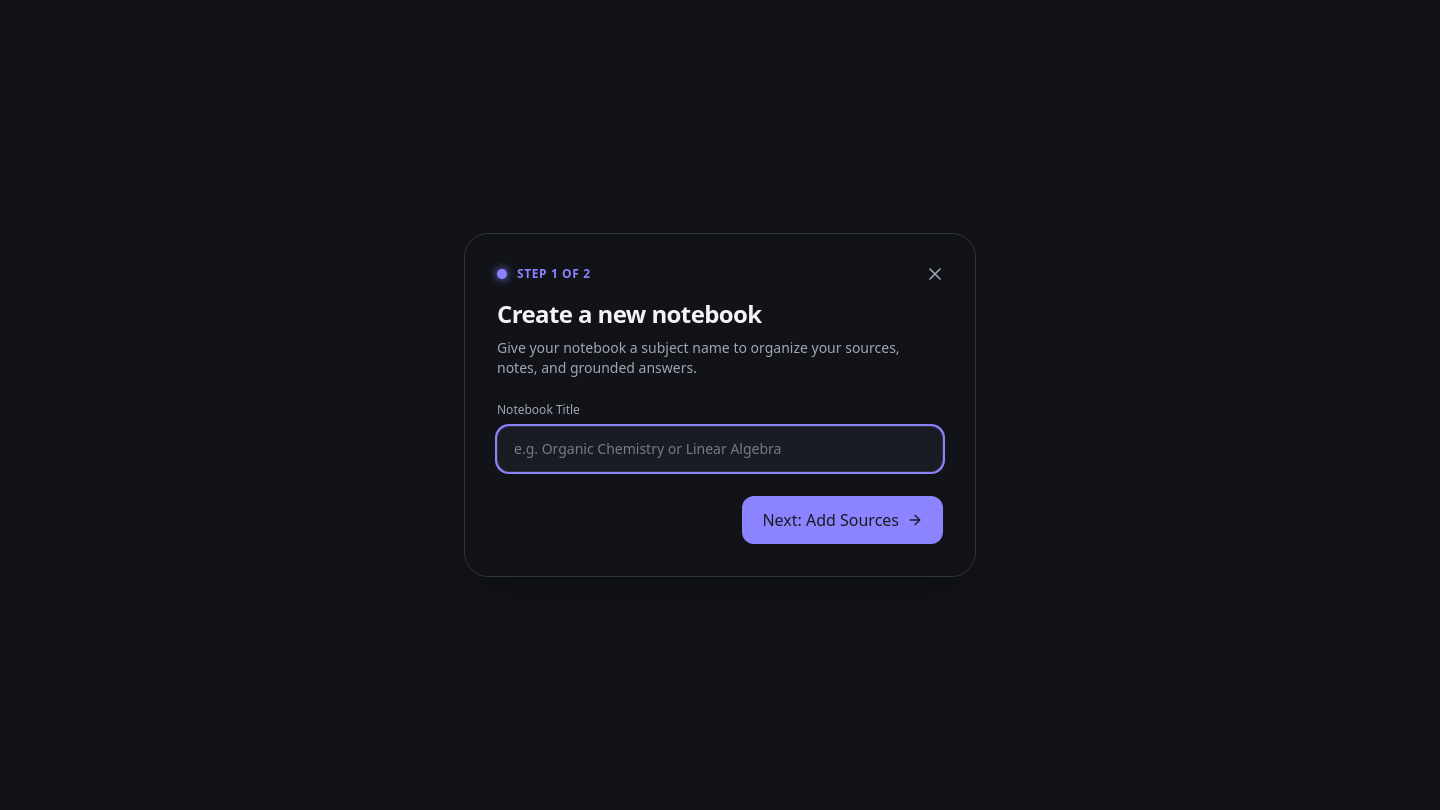
it: Phase 3: Material 3 Auth Modal & Guided Onboarding Flow › test_modal_edge_cases_and_error_handling
Earlier steps of the test are not shown.
Type "Faulty Notebook" into the field with test id "onboarding-notebook-title-input" at [720, 449], box [497,426,943,472]
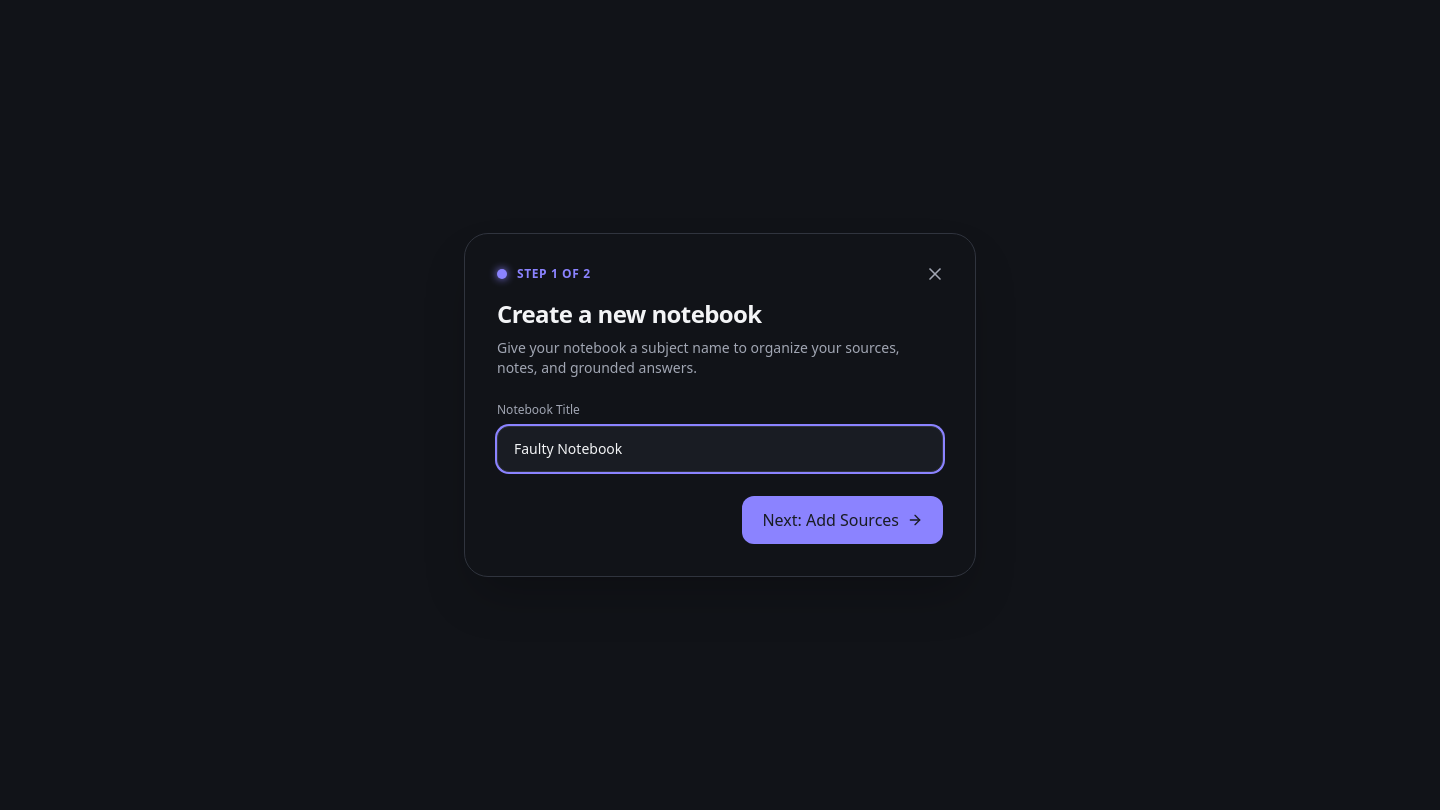
Click the button with test id "onboarding-notebook-submit-btn" at [843, 520], box [742,496,943,544]
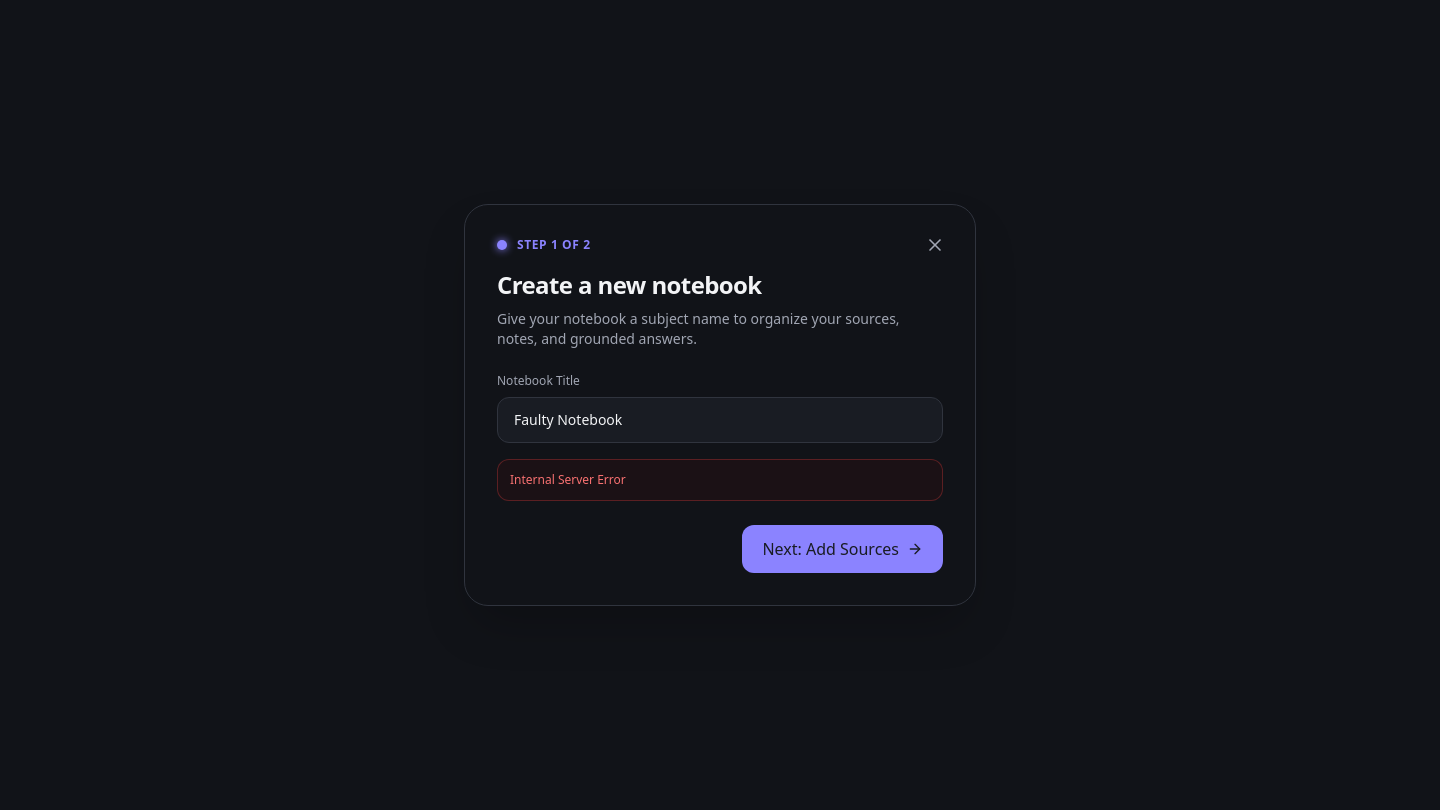
Check: the message "Internal Server Error" is shown, box [497,459,943,501]
Check: the message reads "Internal Server Error", box [510,471,626,488]
